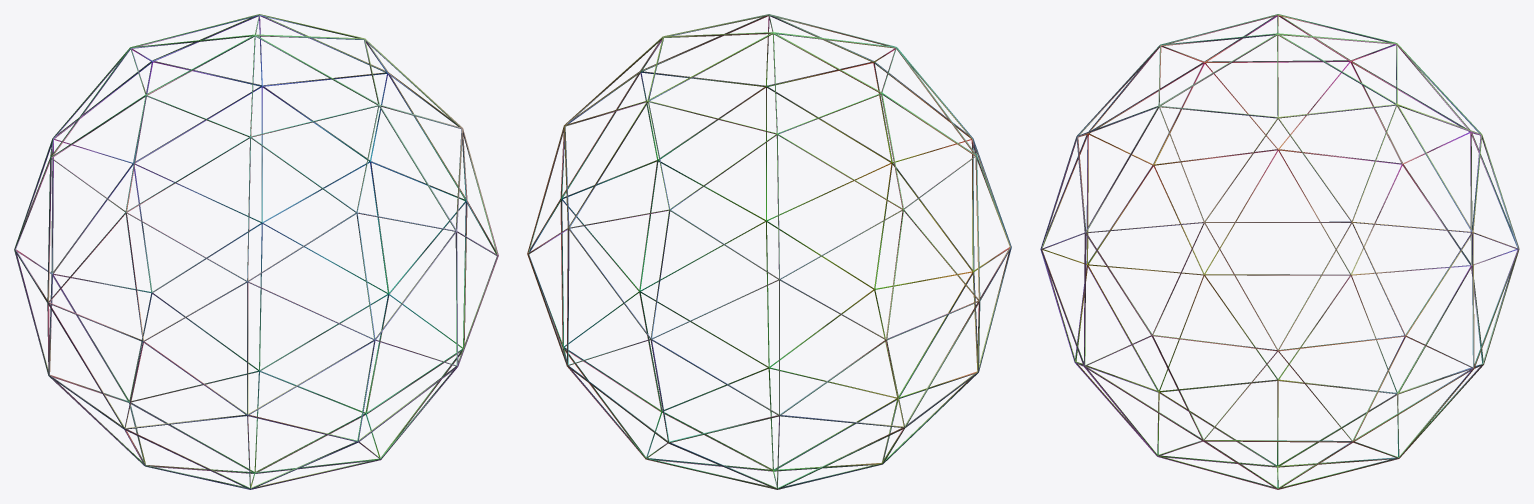
The model's file is zeometry-wireframes-wire-geodesic-sphere_v1.glb.
3 renders of one model, left to right at view 1: azimuth 30°, elevation 25°; view 2: azimuth 150°, elevation 25°; view 3: azimuth 270°, elevation 25°, orthographic.
Parts seen in each view (by area): view 1: Wire Geodesic Sphere_v1; view 2: Wire Geodesic Sphere_v1; view 3: Wire Geodesic Sphere_v1.
Boxes of the visible parts, x1,y1,x2,y2 form: Wire Geodesic Sphere_v1: (14,14,498,489); Wire Geodesic Sphere_v1: (527,14,1011,489); Wire Geodesic Sphere_v1: (1040,14,1519,489).
Size of the model in its own units: 0.4999 by 0.5 by 0.4999.
